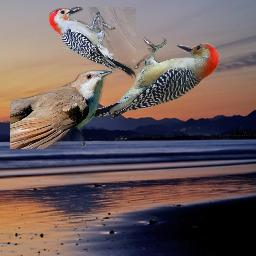Cuckoo: (10, 70, 113, 149)
Woodpecker: (87, 37, 221, 121), (49, 7, 136, 78)
